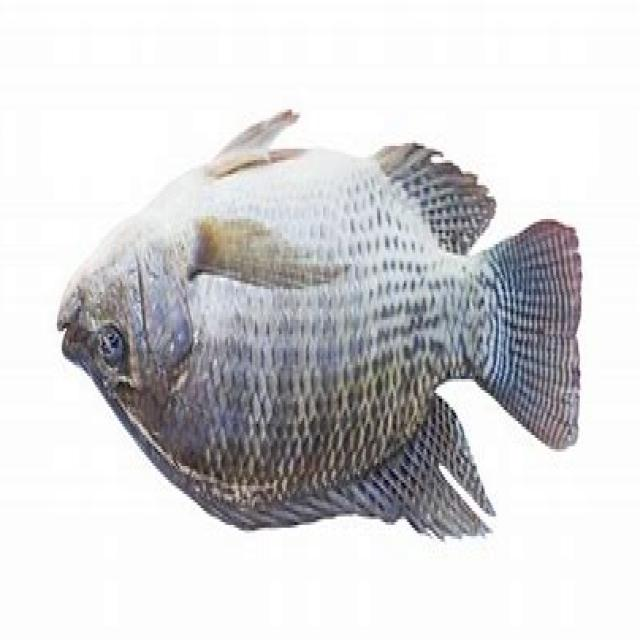Tilapia: (56, 115, 582, 537)
